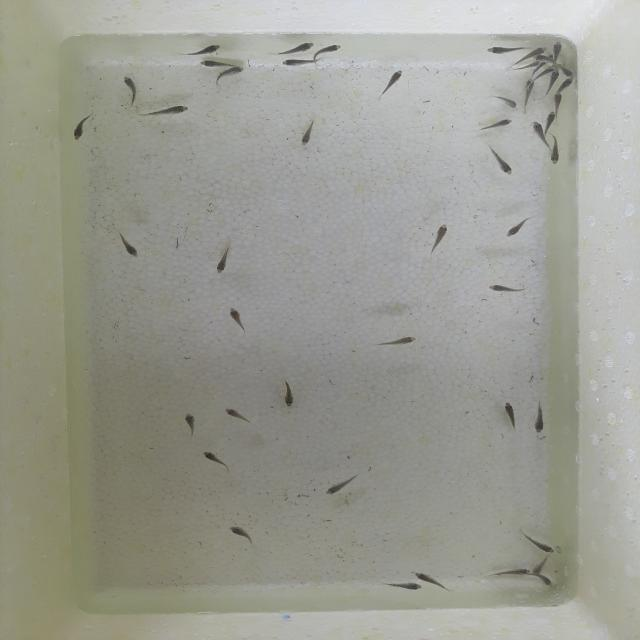fingerling: (223, 406, 256, 430), (376, 334, 421, 351), (431, 220, 453, 251), (490, 150, 516, 175), (323, 478, 355, 498), (114, 235, 140, 259), (505, 216, 532, 238), (525, 536, 558, 554), (223, 525, 256, 542), (381, 69, 404, 93), (69, 116, 91, 141), (477, 118, 514, 132), (226, 304, 245, 331), (412, 568, 444, 584), (503, 401, 520, 431), (200, 450, 228, 468), (281, 377, 296, 408), (534, 399, 546, 436), (218, 66, 248, 80), (215, 250, 233, 273), (530, 557, 551, 576), (120, 75, 138, 97), (281, 41, 314, 53), (530, 118, 544, 146), (520, 46, 550, 59), (378, 581, 426, 589), (494, 568, 531, 578), (182, 409, 196, 435), (155, 105, 188, 116), (550, 134, 562, 164), (298, 125, 314, 147), (187, 44, 221, 54), (545, 110, 560, 132), (496, 92, 518, 107), (557, 76, 576, 93), (534, 575, 556, 589), (314, 44, 344, 54), (484, 47, 520, 55), (487, 285, 527, 292), (282, 59, 322, 66), (523, 78, 536, 99), (549, 42, 563, 61), (553, 92, 564, 115), (198, 60, 234, 67), (545, 70, 560, 86), (557, 68, 578, 76)
